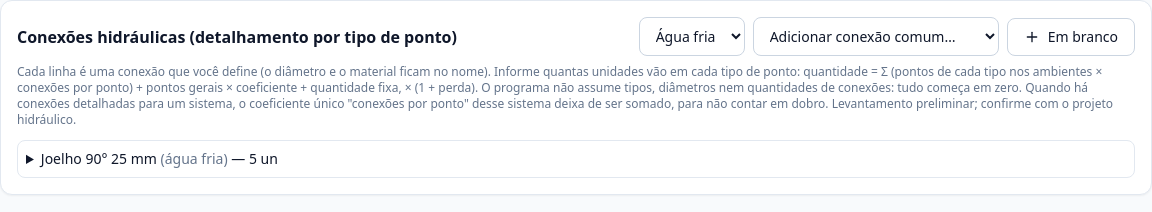
Test case: detalhamento de conexões hidráulicas na tela › preencher os coeficientes calcula a quantidade com perda e mostra a conta
Earlier steps of the test are not shown.
Replace the text in the number field named "Perda (%)" with "10" at [576, 159], box [17,140,1135,178]
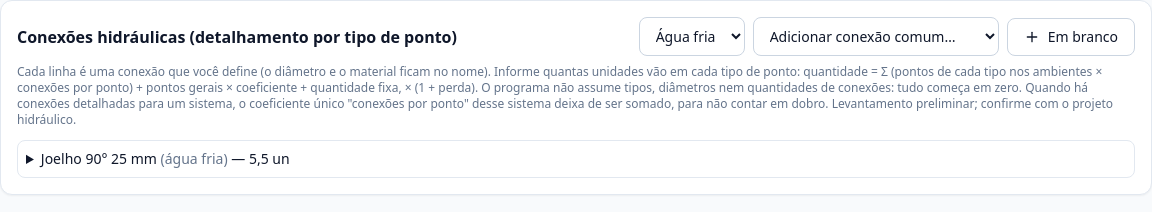
Expected: the heading "Joelho 90° 25 mm (água fria) — 5,5 un" is shown, [41,149,290,168]
